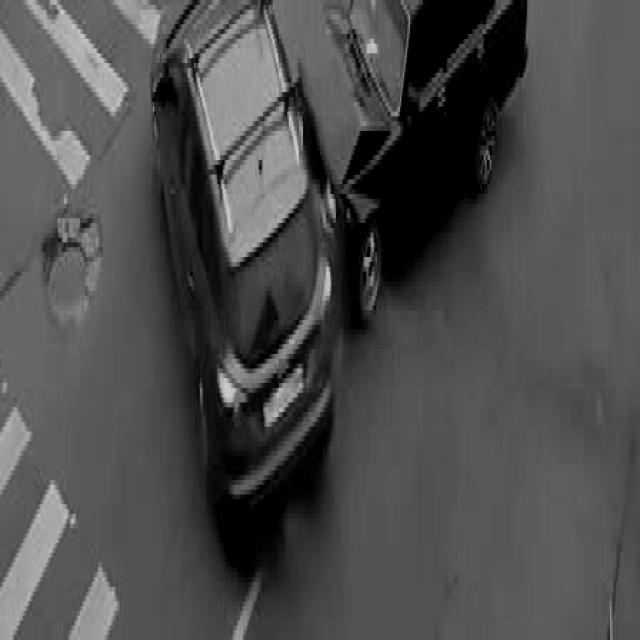accident: (152, 1, 528, 552)
